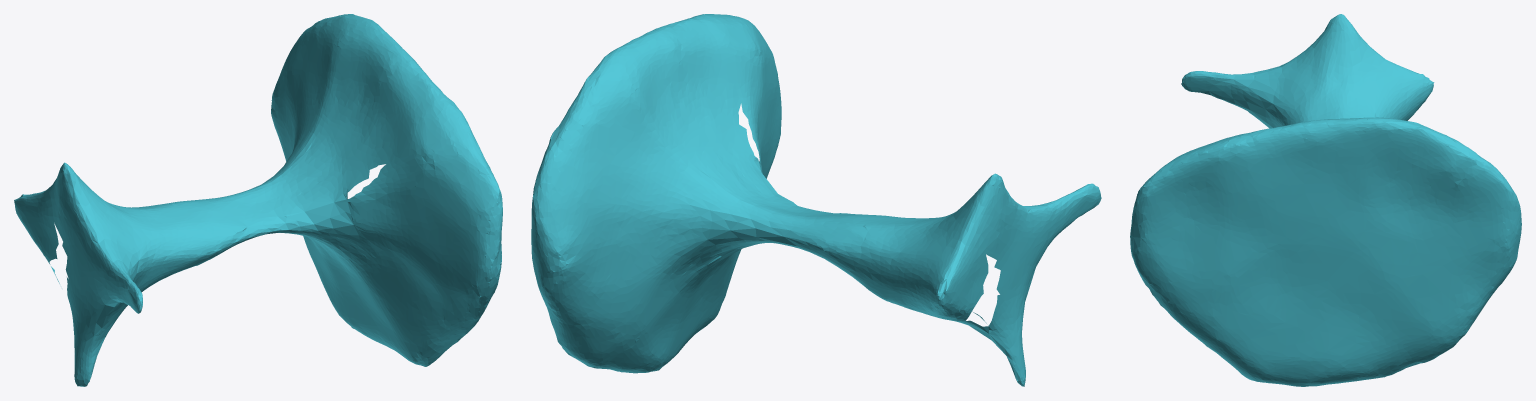
The picture shows the model from 3 angles, left to right: view 1: azimuth 30°, elevation 25°; view 2: azimuth 150°, elevation 25°; view 3: azimuth 270°, elevation 25°; orthographic projection. The views are drawn at different scales.
Parts seen in each view (by area): view 1: Renderer Node; view 2: Renderer Node; view 3: Renderer Node.
Boxes of the visible parts, left/top/right/bottom form: Renderer Node: left=14, top=14, right=502, bottom=386; Renderer Node: left=531, top=14, right=1101, bottom=386; Renderer Node: left=1130, top=14, right=1521, bottom=386.
Bounding box in the file's own units: 0.5682 × 0.4557 × 0.5962.
1 material, 1 textured.
